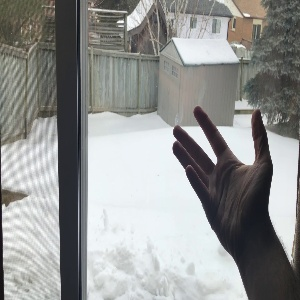hand: (172, 106, 274, 227)
